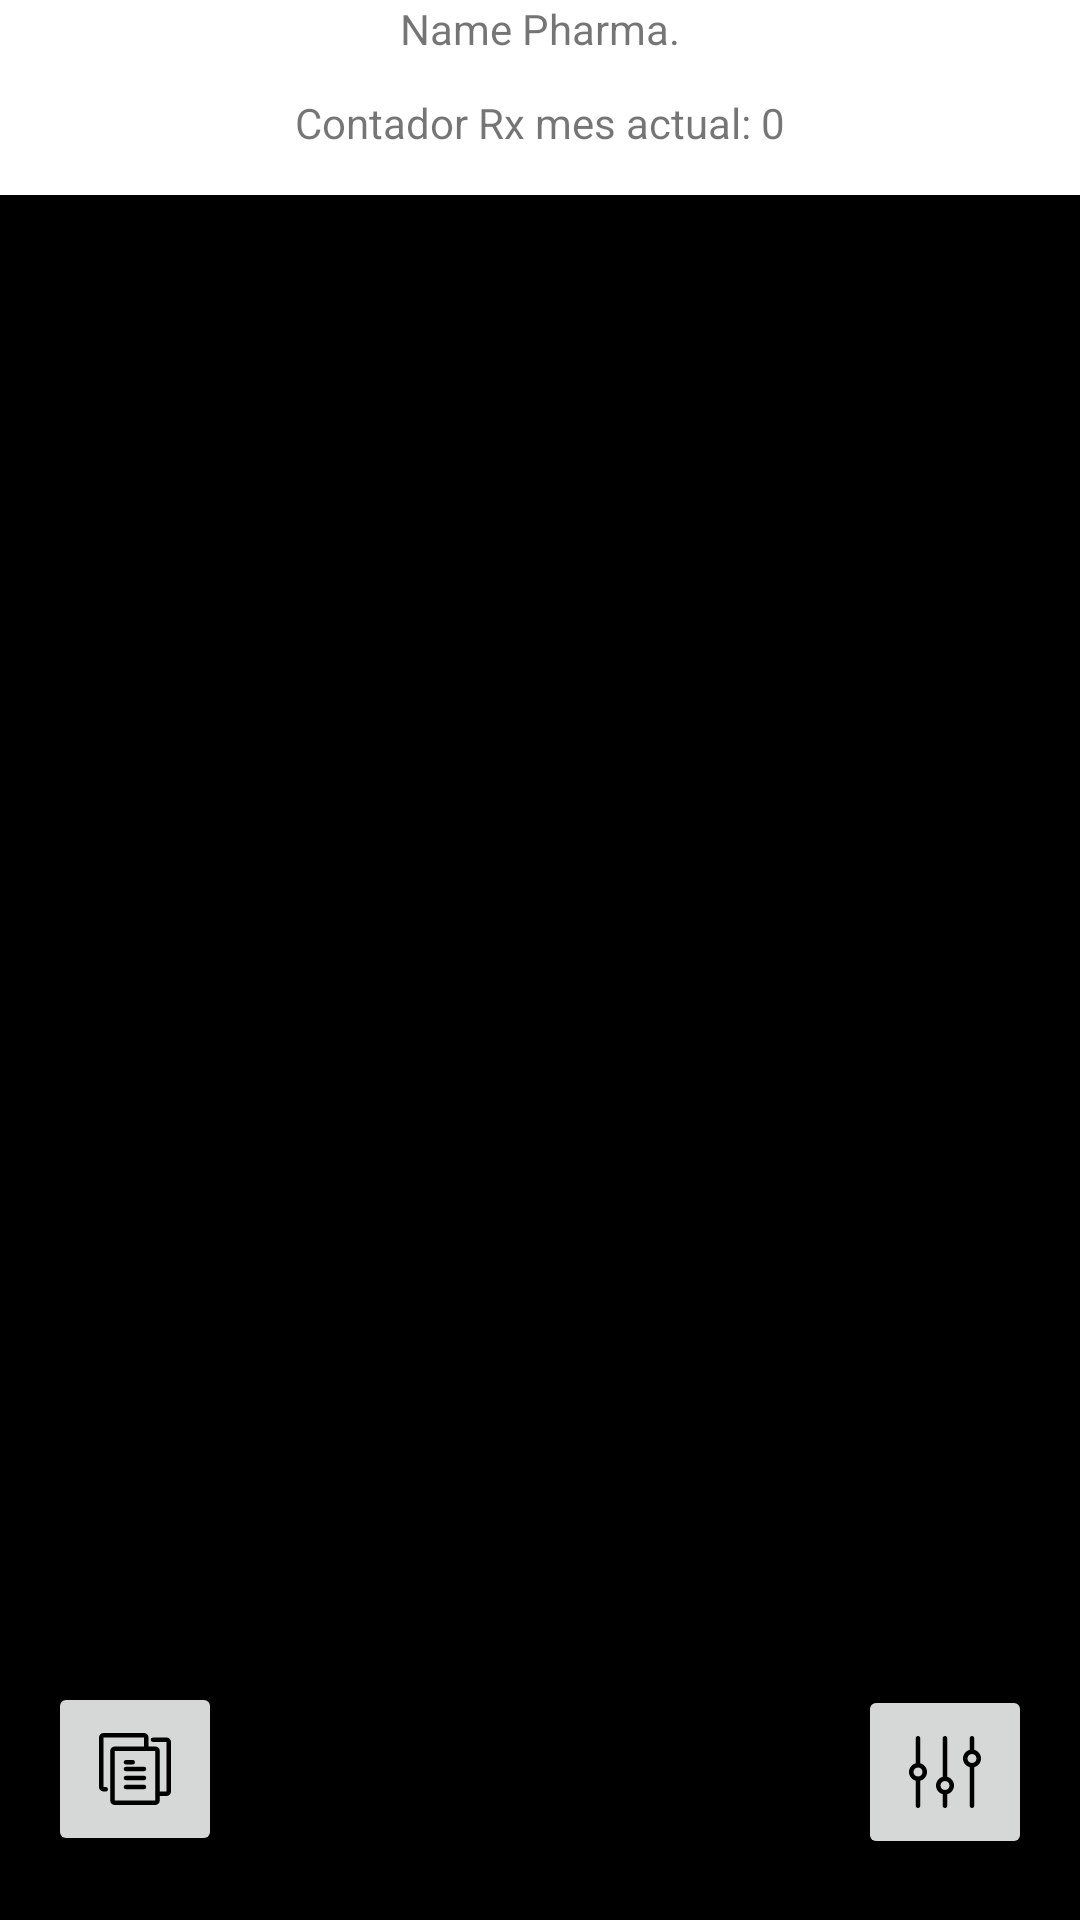

Icon bounding boxes for this 1080 x 1920 phone screenshot, format (x1, y1, x2, y2):
config: (870, 1703, 1020, 1841)
